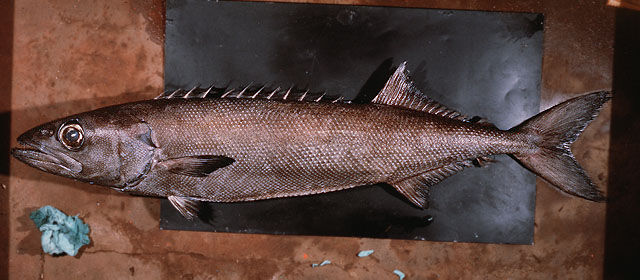fish: (10, 58, 615, 222)
